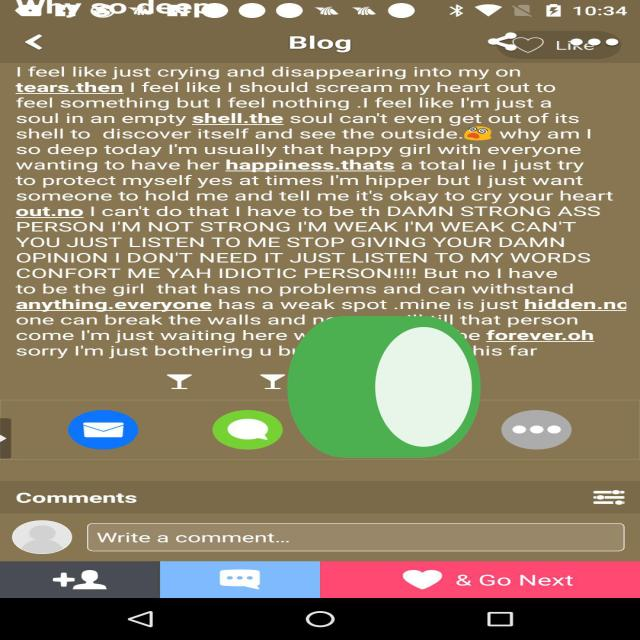social proof: (278, 262, 490, 523)
